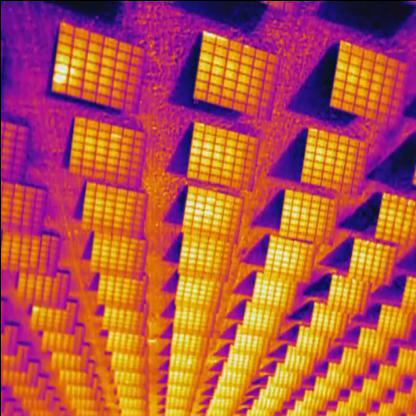Defects: (53, 59, 70, 83)
